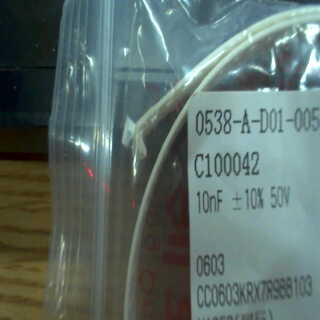10nF: (192, 186, 227, 220)
